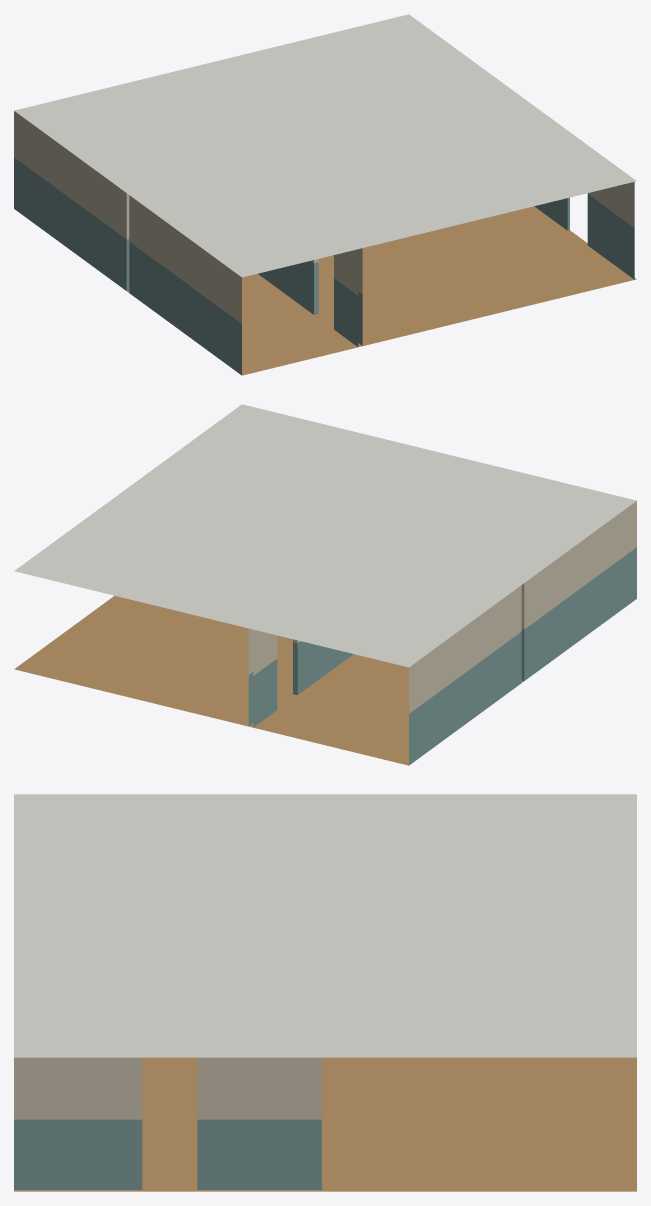
The model's file is chunk_0_1.glb.
3 renders of one model, top to bottom at view 1: azimuth 30°, elevation 25°; view 2: azimuth 150°, elevation 25°; view 3: azimuth 270°, elevation 25°, orthographic. The views are drawn at different scales.
Parts seen in each view (by area): view 1: chunk_0_1; view 2: chunk_0_1; view 3: chunk_0_1.
Boxes of the visible parts, left/top/right/bottom form: chunk_0_1: left=14, top=14, right=636, bottom=375; chunk_0_1: left=14, top=404, right=636, bottom=765; chunk_0_1: left=14, top=794, right=636, bottom=1191.
Size of the model in its own units: 12 by 2.85 by 12.
